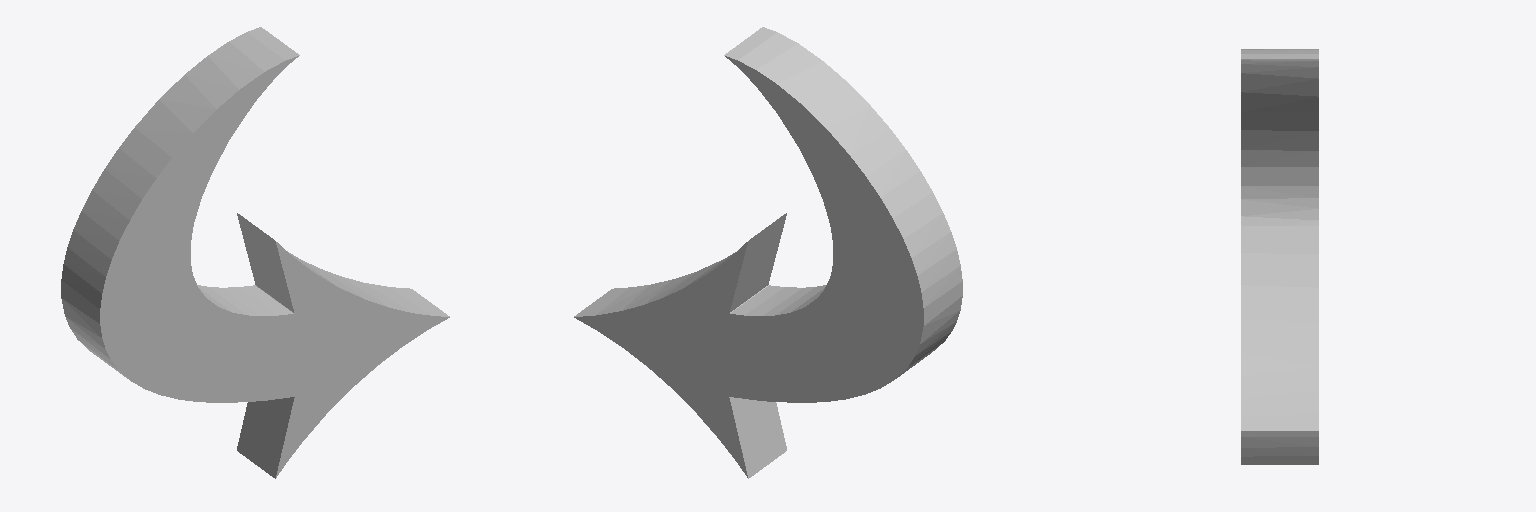
The model's file is Arrow_2.obj.
3 renders of one model, left to right at view 1: azimuth 30°, elevation 25°; view 2: azimuth 150°, elevation 25°; view 3: azimuth 270°, elevation 25°, orthographic.
Parts seen in each view (by area): view 1: Arrow_2; view 2: Arrow_2; view 3: Arrow_2.
Boxes of the visible parts, box(x1,y1,x2,y2) form: Arrow_2: box(61, 27, 449, 478); Arrow_2: box(574, 27, 962, 478); Arrow_2: box(1241, 49, 1318, 464).
Bounding box in the file's own units: 2.4 × 2.73 × 0.4625.